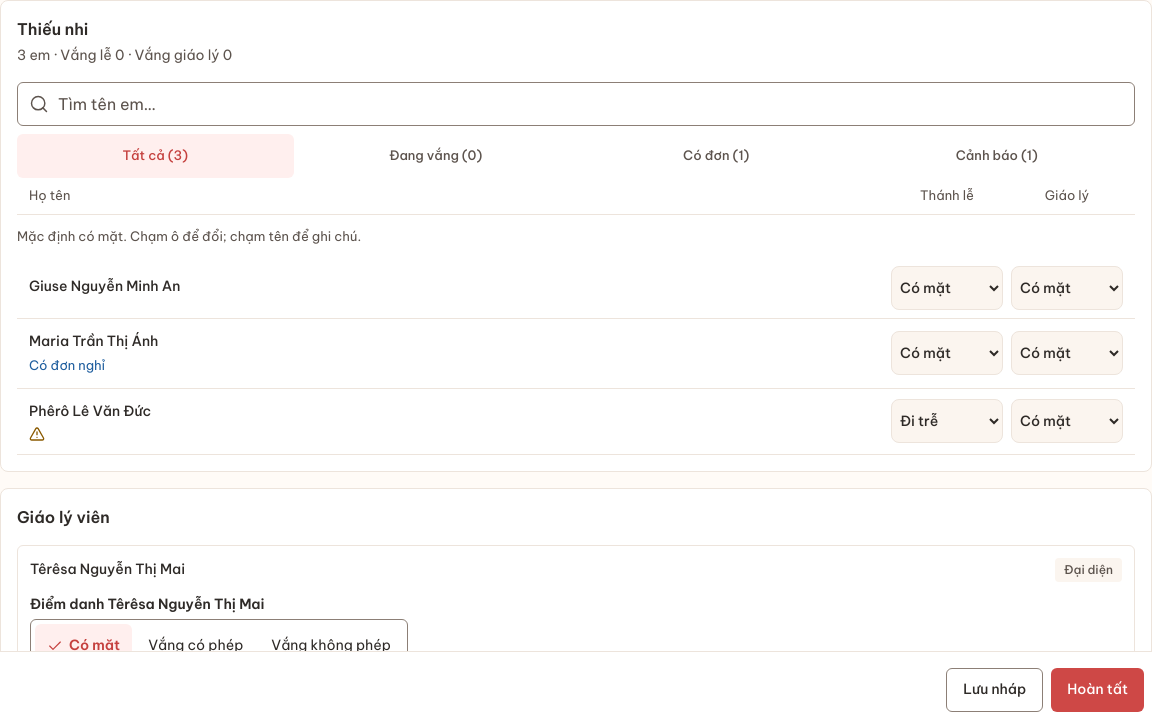
attendance unsaved protection › only clears dirty state after a successful save
Select "Vắng KP" in the dropdown named "Thánh lễ của Giuse Nguyễn Minh An": {"x": 947, "y": 288} top-left (891, 266), bottom-right (1003, 310)
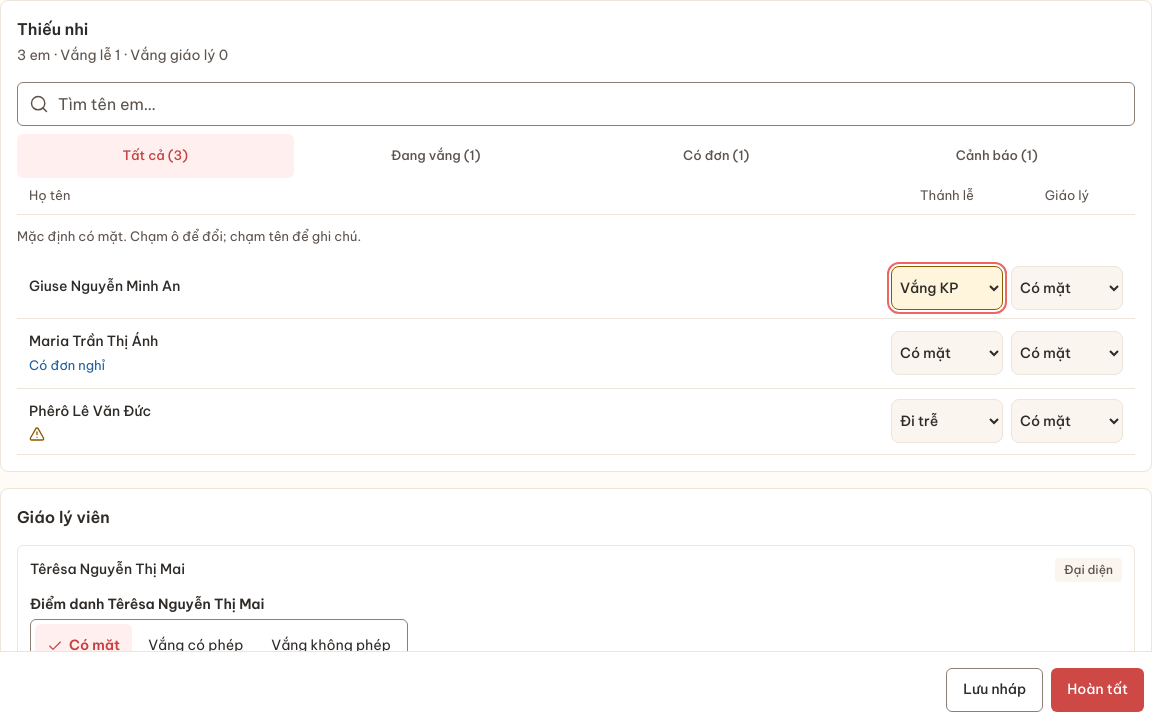
Click the button "Lưu nháp": {"x": 995, "y": 690} top-left (946, 668), bottom-right (1043, 712)
(page scrolled)
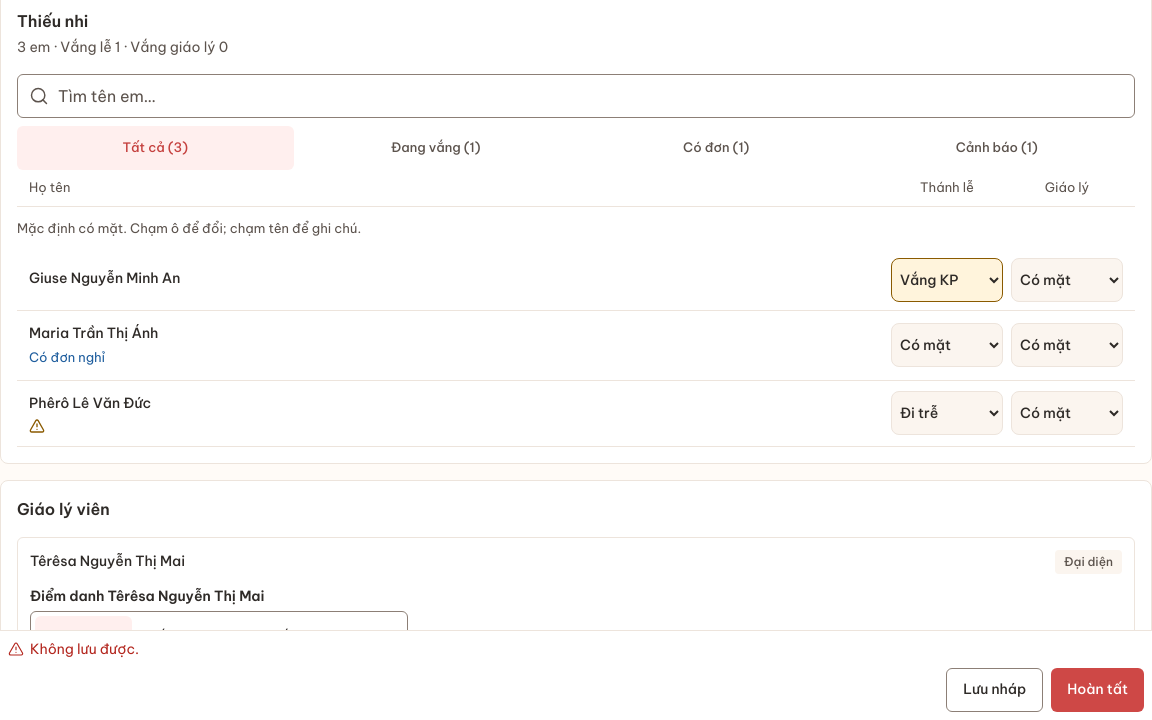
Expected: the text "Không lưu được." is shown, top-left (30, 639), bottom-right (139, 660)
Click the button "Lưu nháp": {"x": 995, "y": 690} top-left (946, 668), bottom-right (1043, 712)
(page scrolled)
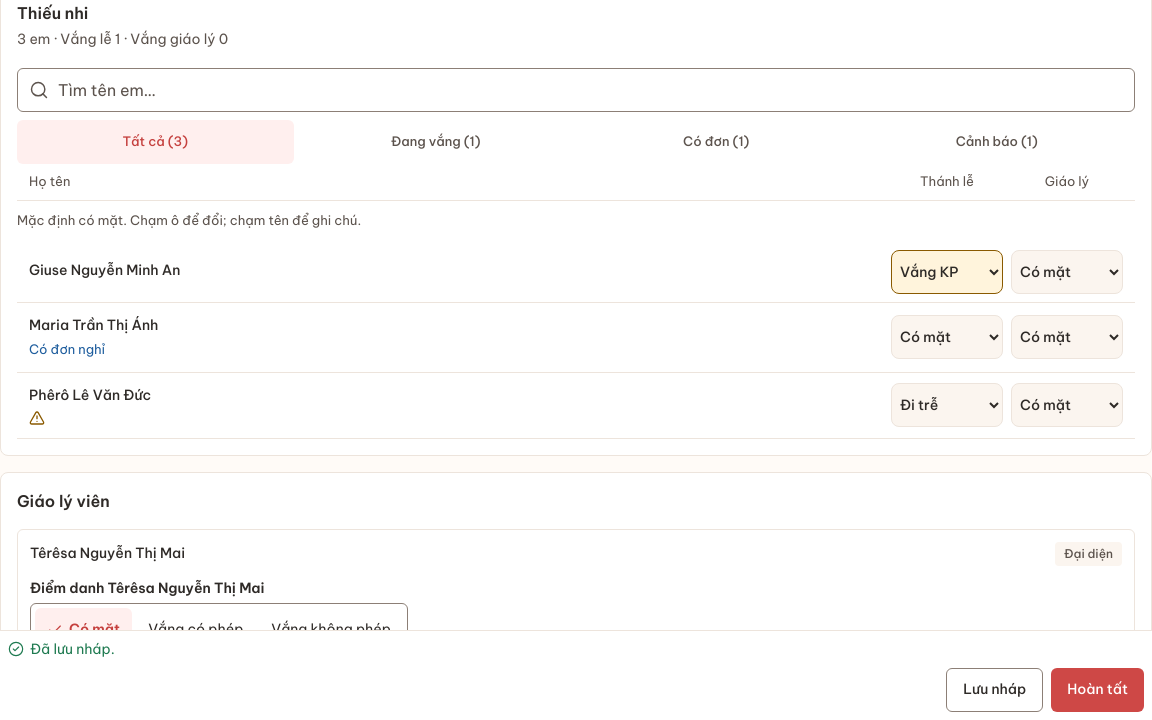
Expected: the text "Đã lưu nháp." is shown, top-left (30, 639), bottom-right (115, 660)
